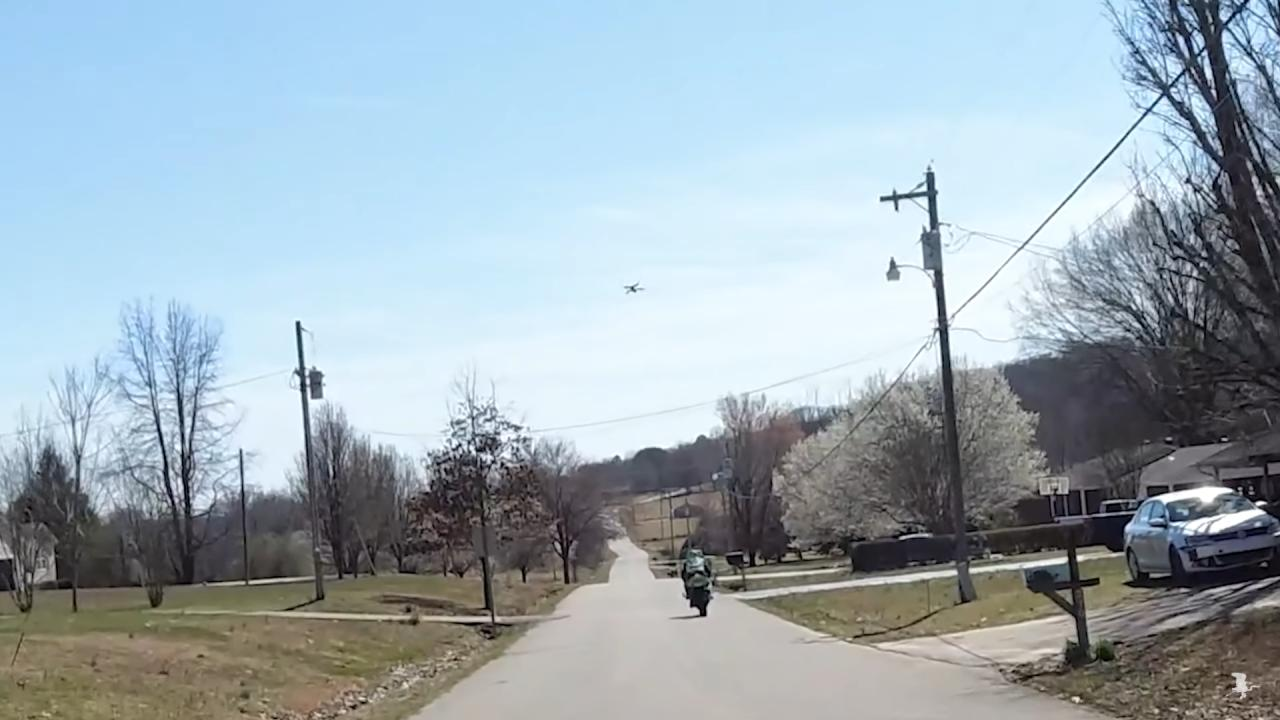Drone: (616, 273, 649, 304)
